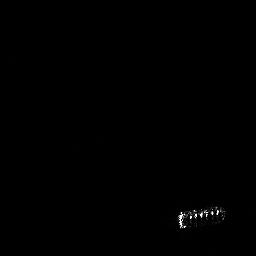ship: (176, 203, 229, 231)
